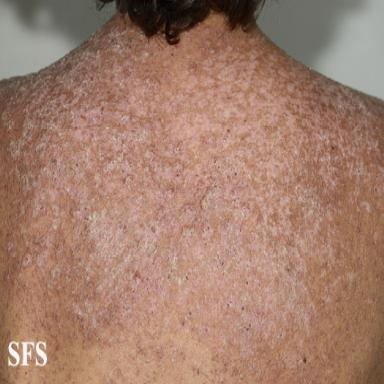Darier_s-Disease: (0, 13, 384, 384)
